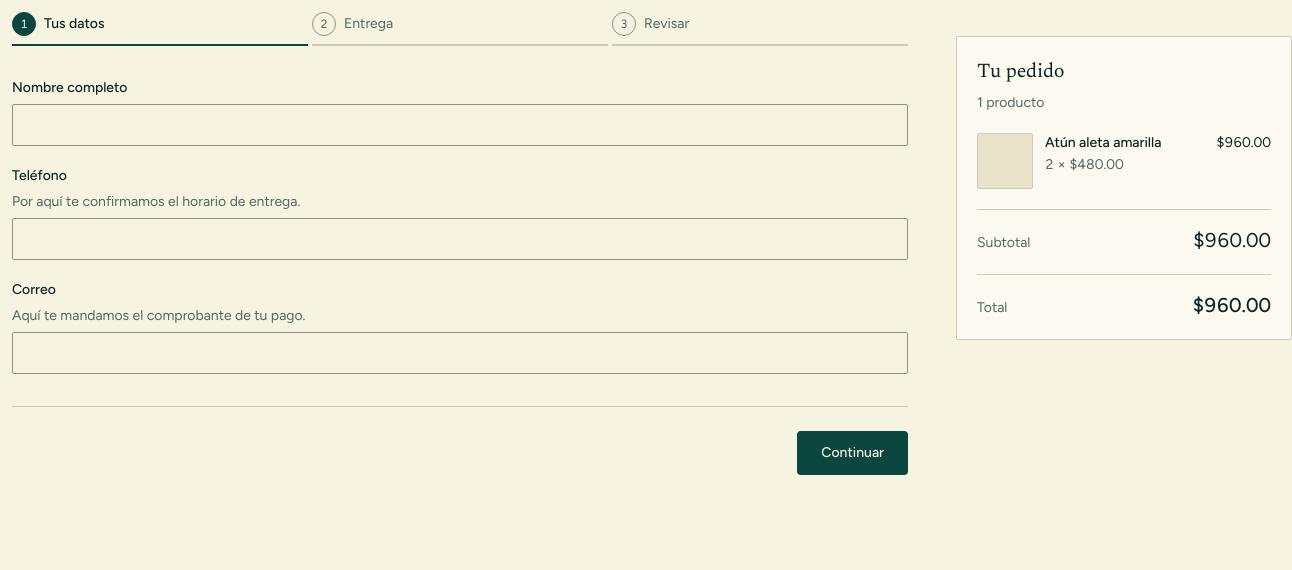
Test case: avanzar entre pasos › no deja pasar sin nombre ni teléfono
Click the button "Continuar". click: [853, 453]
box: [797,431,908,475]
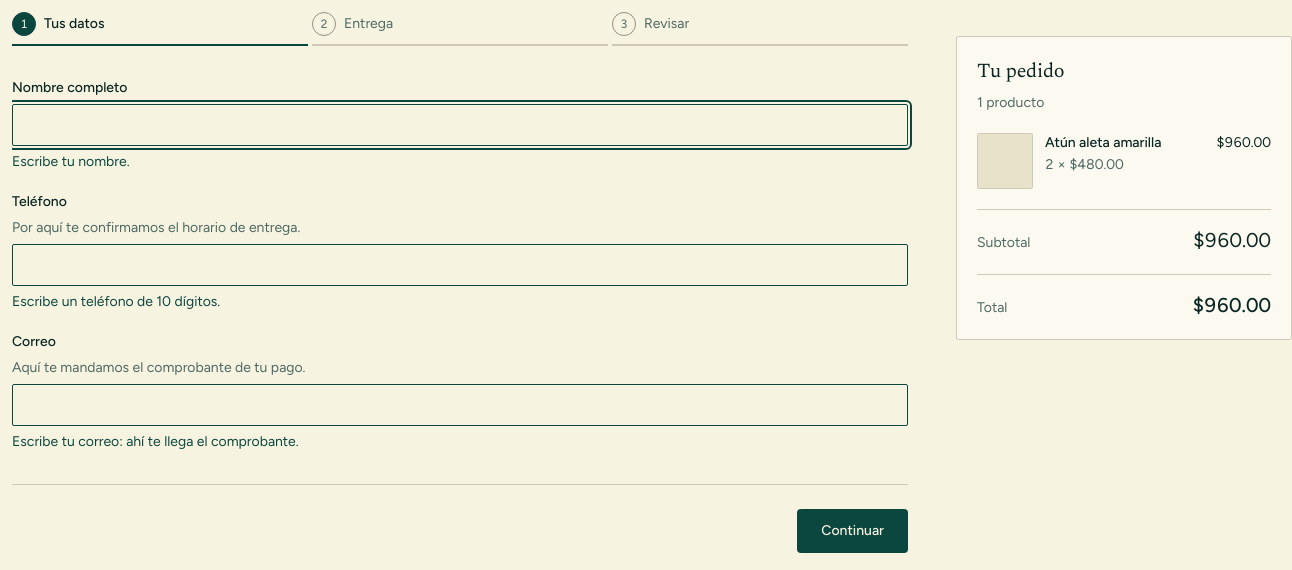
Expected: the text "Escribe tu nombre." is shown, [12,153,130,170]
Expected: the text "Escribe un teléfono de 10 dígitos." is shown, [12,293,220,310]
